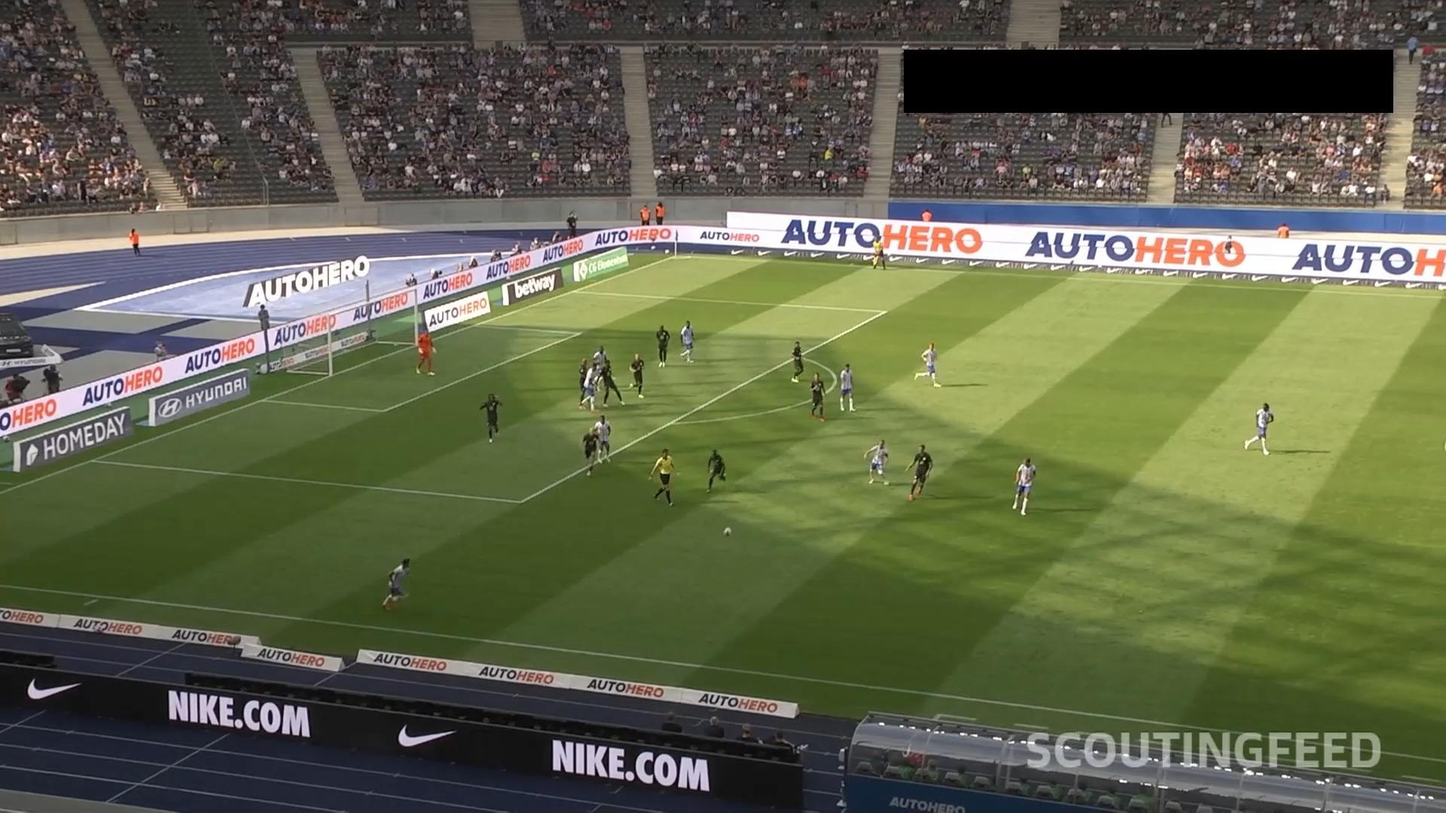ball: (722, 525, 733, 538)
goalkeeper: (416, 327, 438, 377)
player: (1011, 452, 1038, 518), (905, 442, 934, 503), (381, 554, 412, 608), (1243, 402, 1274, 455), (863, 437, 891, 488), (914, 340, 943, 388), (593, 416, 618, 468), (703, 446, 729, 495), (479, 392, 502, 446), (581, 427, 602, 481), (579, 361, 598, 414), (601, 364, 623, 409), (809, 370, 827, 424), (590, 343, 609, 392), (840, 364, 856, 416), (629, 353, 645, 400), (790, 339, 806, 385), (679, 320, 695, 365), (656, 324, 669, 368)
referee: (649, 446, 680, 507), (871, 238, 887, 272)
